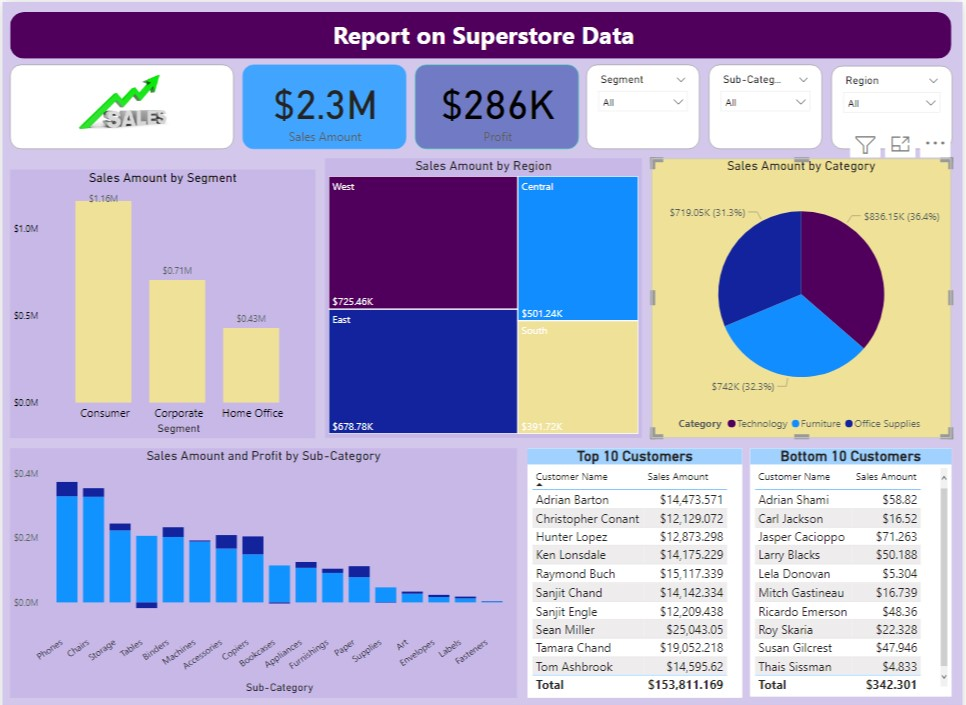

This screenshot's page, from the dashboard's own definition file:
{"tool":"powerbi","page":{"name":"Page 1","canvas":[1280,1000],"ordinal":0},"visuals":[{"type":"textbox","box":[79,297.5,150,150],"z":0},{"type":"columnChart","fields":{"Y":["Orders.Sales Amount"],"Category":["Orders.Segment"]},"box":[10,222.5,407.5,358.8],"z":1000},{"type":"treemap","fields":{"Group":["Orders.Region"],"Values":["Orders.Sales Amount"]},"box":[430,208.8,422.5,372.5],"z":2000},{"type":"pieChart","fields":{"Category":["Orders.Category"],"Y":["Orders.Sales Amount"]},"box":[865.7,208.6,400,372.9],"z":3000},{"type":"columnChart","fields":{"Category":["Orders.Sub-Category"],"Y":["Orders.Sales Amount","Orders.Profit"]},"box":[10,595,676.2,332.5],"z":4000},{"type":"tableEx","title":"Top 10 Customers","fields":{"Values":["Orders.Customer Name","Orders.Sales Amount"]},"box":[700,595,286.2,332.5],"z":5000},{"type":"tableEx","title":"Bottom 10 Customers","fields":{"Values":["Orders.Customer Name","Orders.Sales Amount"]},"box":[997.1,595.7,268.6,331.4],"z":6000},{"type":"shape","box":[10,12.5,1255,62.5],"z":7000},{"type":"textbox","box":[375,16.2,532.5,55],"z":8000},{"type":"card","fields":{"Values":["Orders.Sales Amount"]},"box":[320,83.8,218.8,112.5],"z":9000},{"type":"card","fields":{"Values":["Orders.Profit"]},"box":[550,83.8,218.8,112.5],"z":10000},{"type":"slicer","fields":{"Values":["Orders.Sub-Category"]},"box":[941.2,83.8,151.2,112.5],"z":11000},{"type":"slicer","fields":{"Values":["Orders.Region"]},"box":[1104.3,84.3,161.4,111.4],"z":12000},{"type":"slicer","fields":{"Values":["Orders.Segment"]},"box":[778.8,83.8,151.2,112.5],"z":13000},{"type":"image","box":[10,83.8,298.8,112.5],"z":14000}]}

Visuals, with their boxes on the page's 1280x1000 design canvas (x1, y1, x2, y2). These are canvas units, not pixel positions in the 966x705 screenshot, which may show the page scaled, cropped or inside an application window:
textbox: [left=79, top=298, right=229, bottom=448]
columnChart - Orders.Sales Amount x Orders.Segment: [left=10, top=222, right=418, bottom=581]
treemap - Orders.Region x Orders.Sales Amount: [left=430, top=209, right=852, bottom=581]
pieChart - Orders.Category x Orders.Sales Amount: [left=866, top=209, right=1266, bottom=582]
columnChart - Orders.Sub-Category x Orders.Sales Amount: [left=10, top=595, right=686, bottom=928]
"Top 10 Customers" tableEx: [left=700, top=595, right=986, bottom=928]
"Bottom 10 Customers" tableEx: [left=997, top=596, right=1266, bottom=927]
shape: [left=10, top=12, right=1265, bottom=75]
textbox: [left=375, top=16, right=908, bottom=71]
card - Orders.Sales Amount: [left=320, top=84, right=539, bottom=196]
card - Orders.Profit: [left=550, top=84, right=769, bottom=196]
slicer - Orders.Sub-Category: [left=941, top=84, right=1092, bottom=196]
slicer - Orders.Region: [left=1104, top=84, right=1266, bottom=196]
slicer - Orders.Segment: [left=779, top=84, right=930, bottom=196]
image: [left=10, top=84, right=309, bottom=196]
